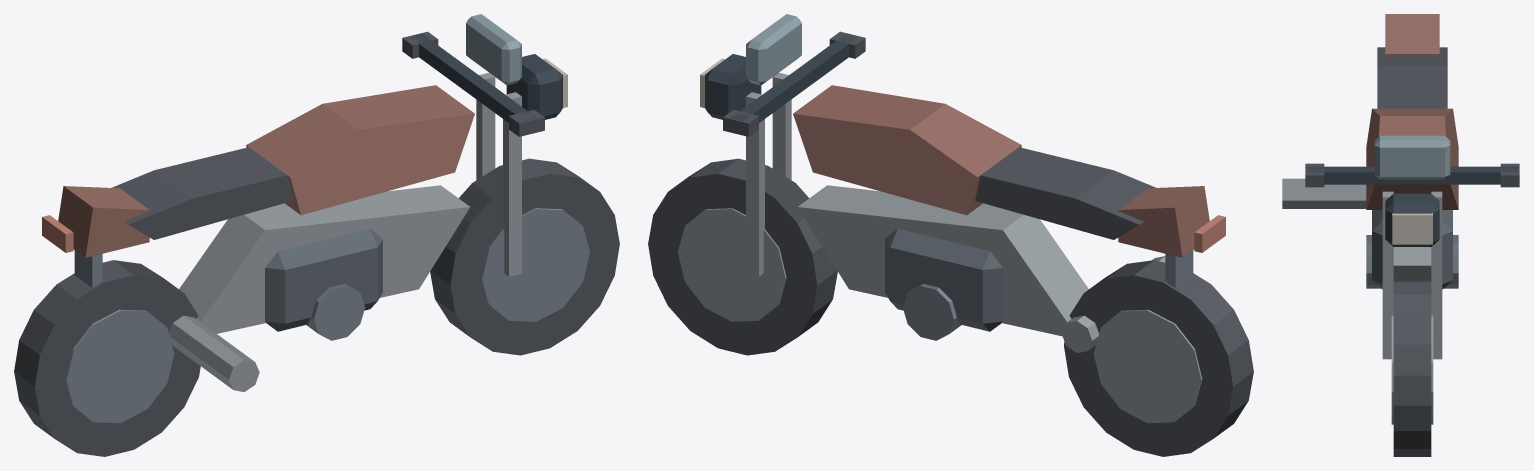
The model's file is vehiculo_motocicleta.glb.
3 renders of one model, left to right at view 1: azimuth 30°, elevation 25°; view 2: azimuth 150°, elevation 25°; view 3: azimuth 270°, elevation 25°, orthographic. The views are drawn at different scales.
Size of the model in its own units: 2.28 by 1.2 by 0.875.
